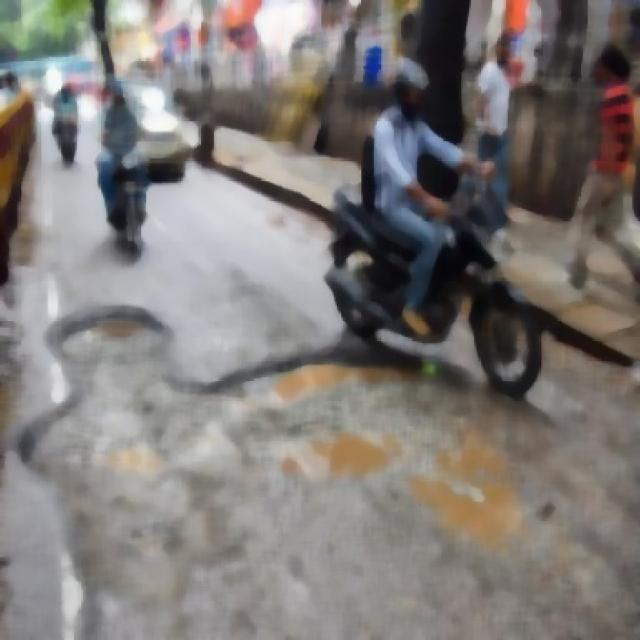pothole: (252, 367, 563, 533), (51, 318, 171, 363)
